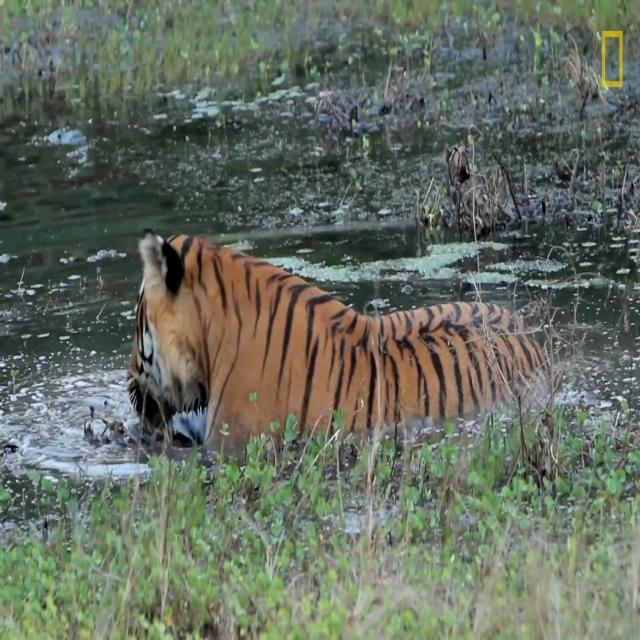TIGER: (125, 222, 448, 443)
